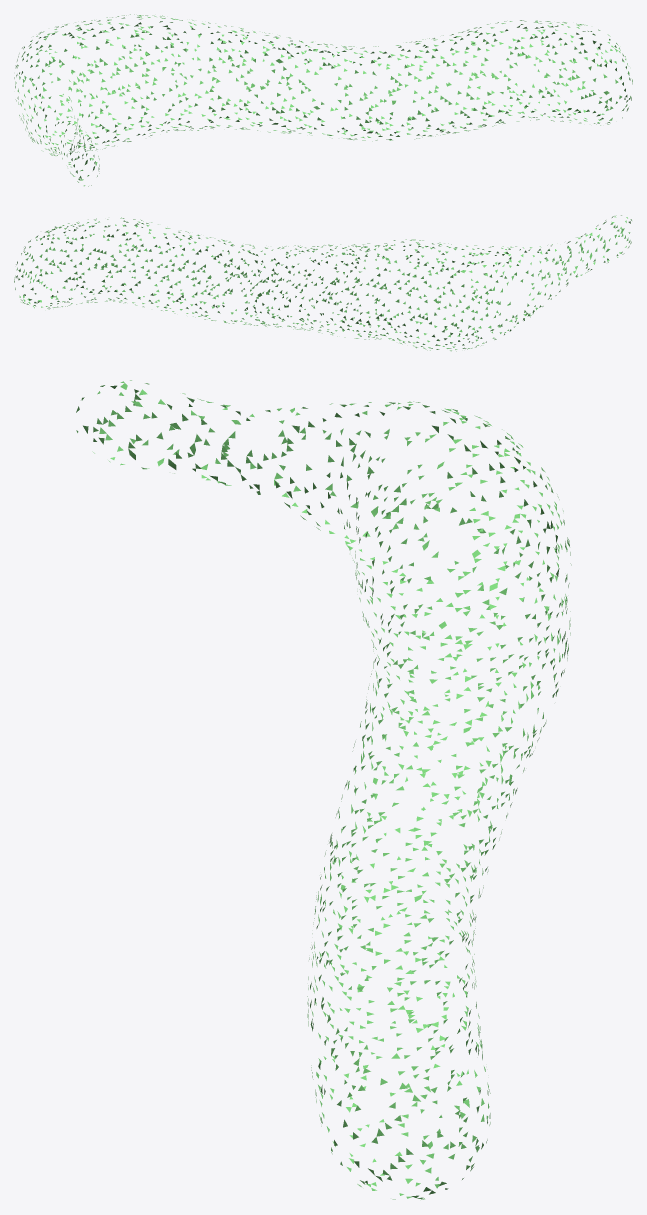
Rendered from morph_017.glb.
3 renders of one model, top to bottom at view 1: azimuth 30°, elevation 25°; view 2: azimuth 150°, elevation 25°; view 3: azimuth 270°, elevation 25°, orthographic. The views are drawn at different scales.
Size of the model in its own units: 112 by 34.57 by 45.05.
